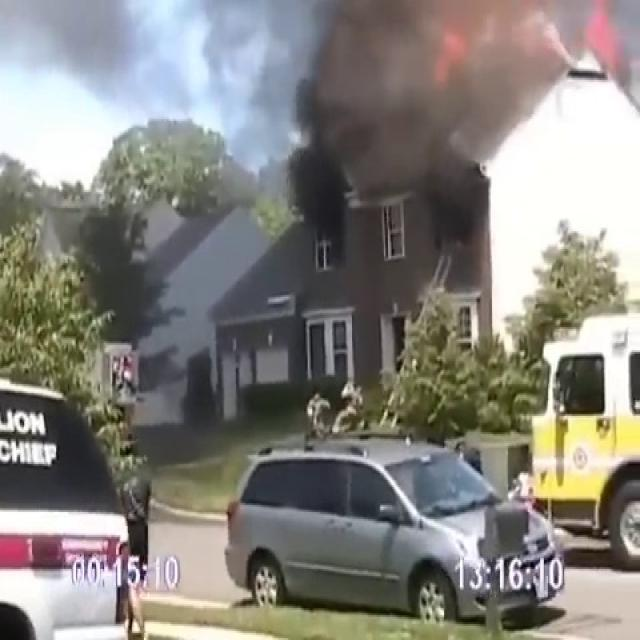Smoke: (238, 0, 640, 179)
